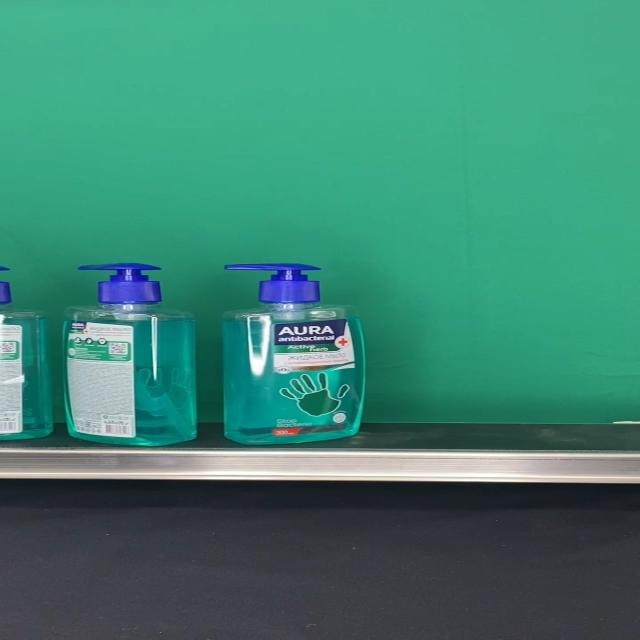Bottle: (224, 263, 365, 444), (62, 262, 197, 446)
Cap: (225, 263, 321, 305), (78, 262, 162, 304)
